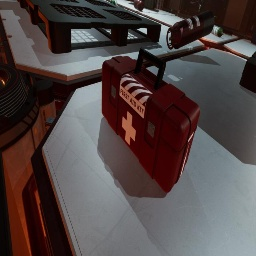0: (211, 25, 224, 37), (110, 0, 117, 6)
FireExtinguisher ]: (127, 0, 132, 2), (131, 0, 134, 2)
FirstAidBox ,: (102, 47, 200, 193)
NitrogenTank ,: (166, 10, 214, 50), (133, 0, 144, 11)
